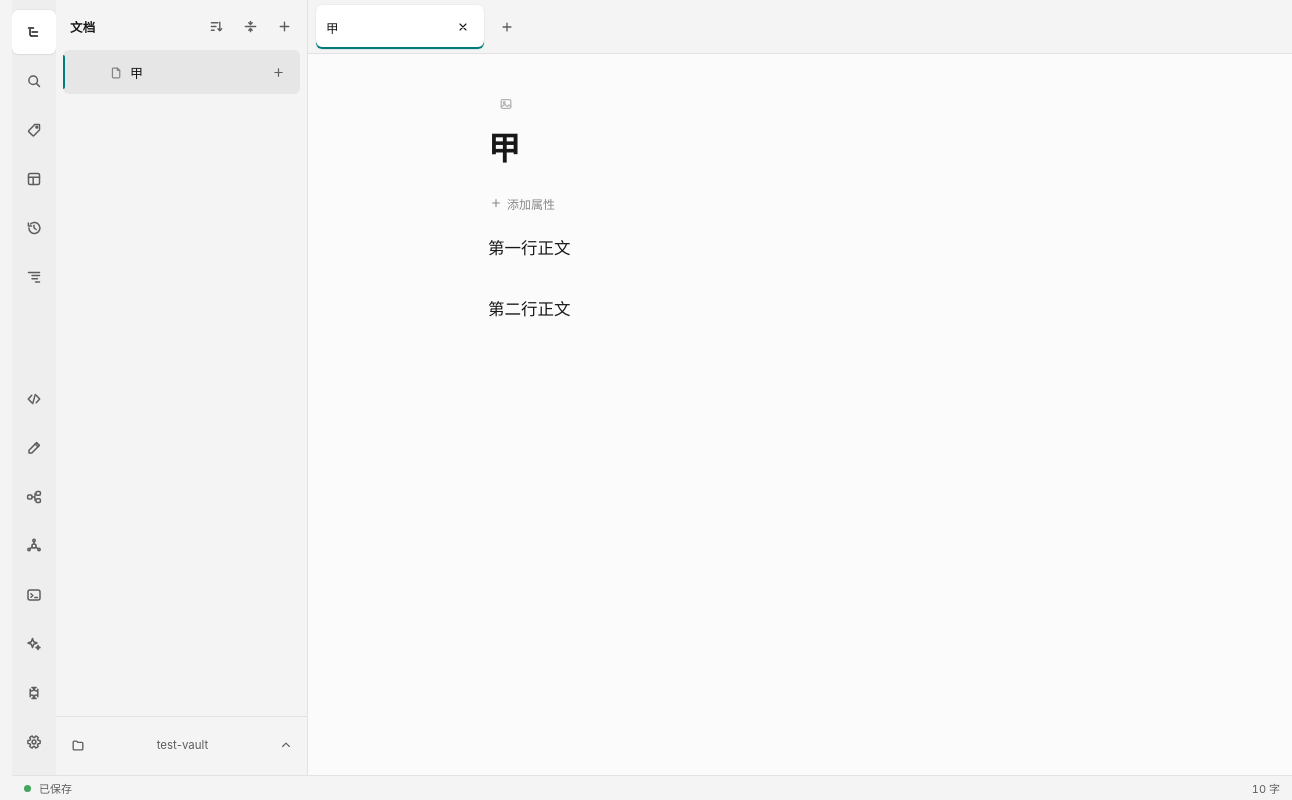
Test: 正文里的右键菜单（§4.10） › 右键弹出来的是 Verso 的菜单，而且拦掉了 webview 自带那个
Right-click the text box with class "cm-line" showing "第一行正文" at (529, 248), box [488,238,570,258]
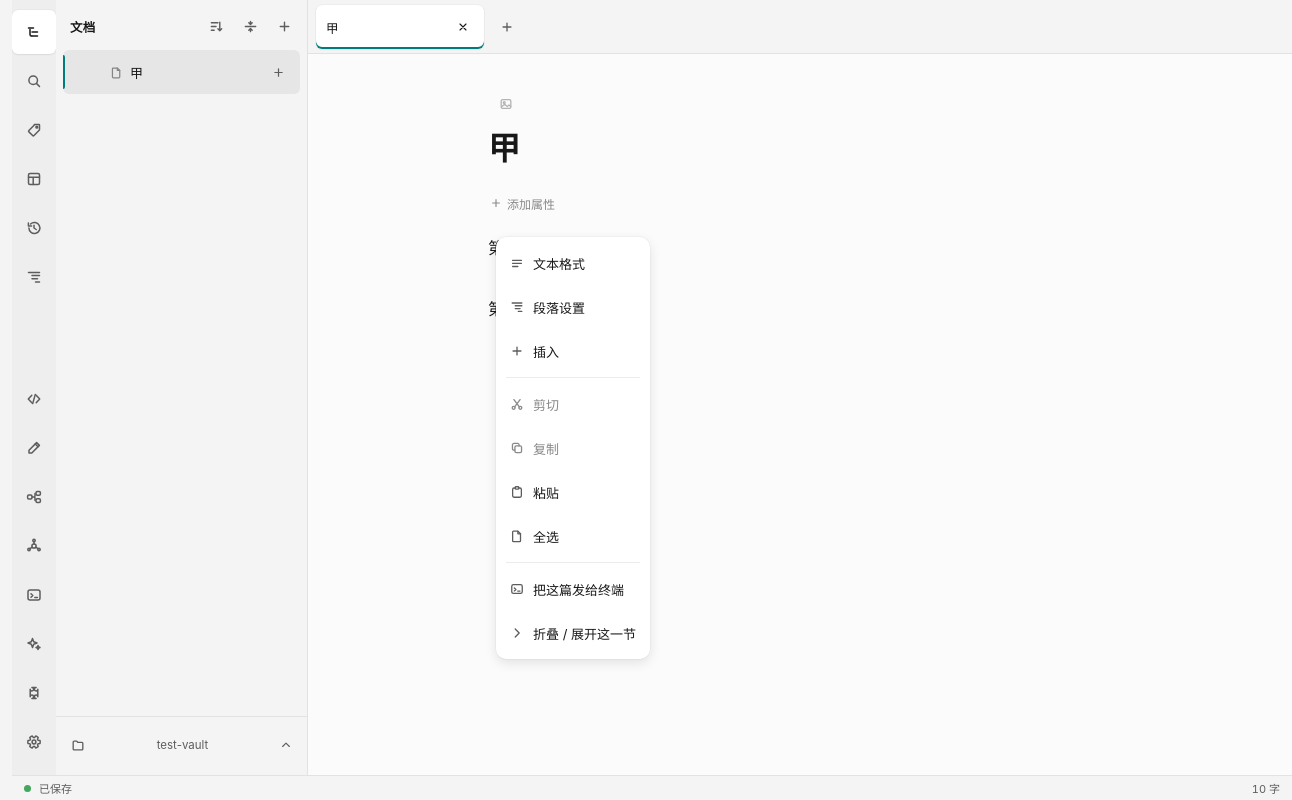
Check: the list with class "ctx" is shown, box [496,237,650,659]
